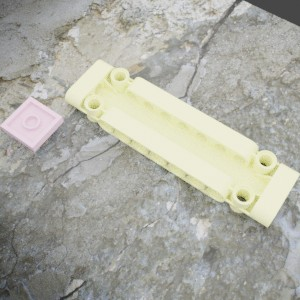lego: (65, 59, 300, 227), (0, 96, 63, 152)
